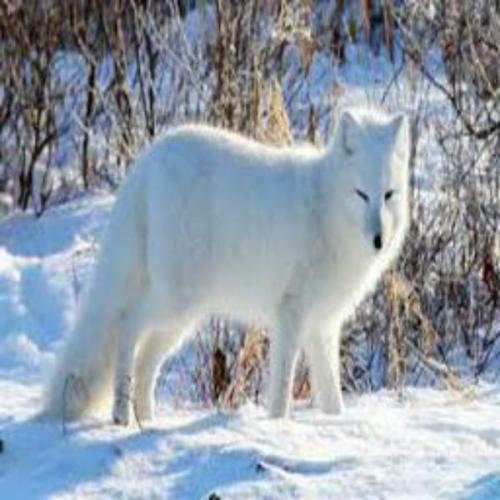arctic_fox-endangered: (46, 110, 412, 428)
